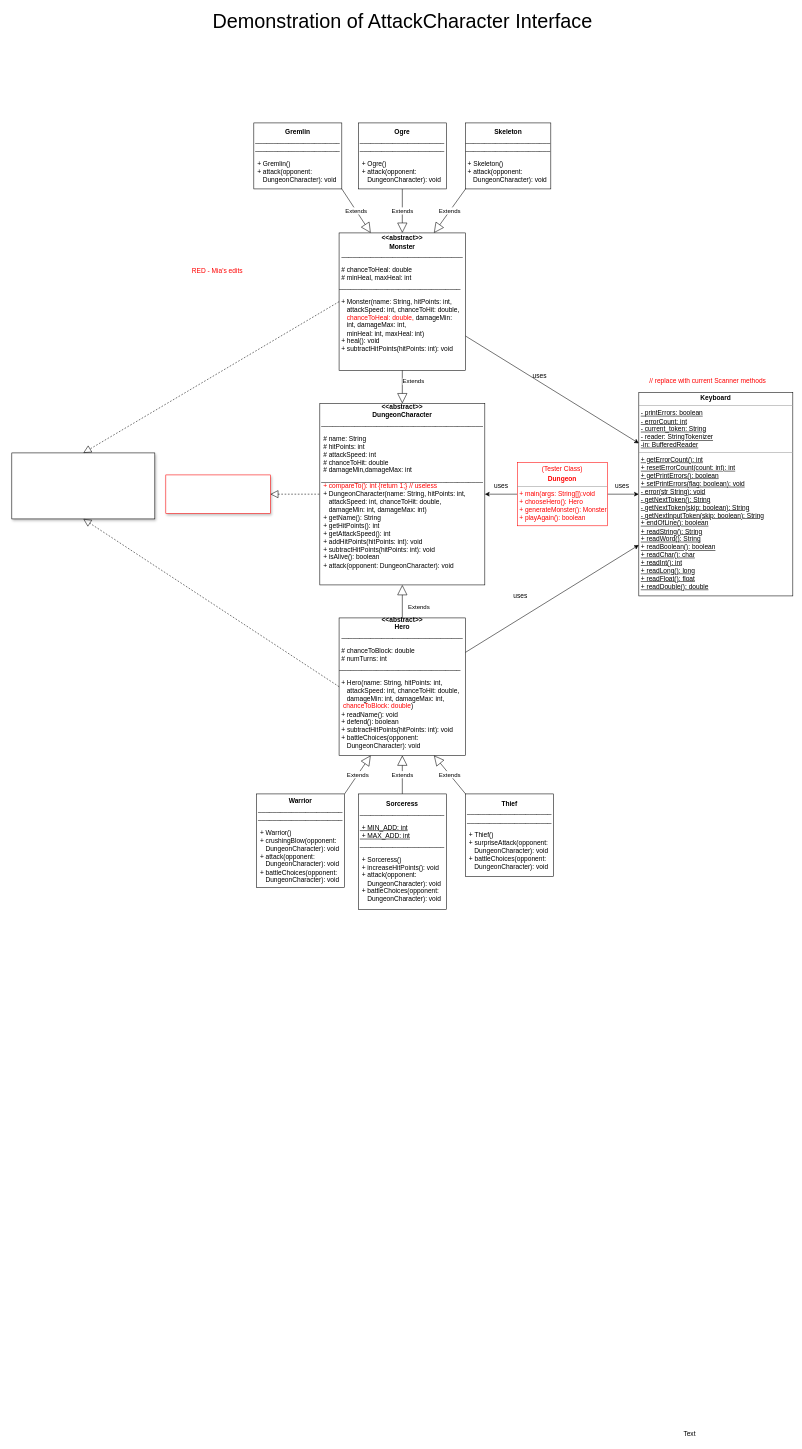
This 802x1449 diagram has some shape labels left out. The centre of each missing label's shape, as x and y in pixels:
"<<Interface>> Comparable" belongs at (x=218, y=494).
"<<Interface>> IAttackCharacter + attack(opponent: DungeonCharacter): void" belongs at (x=83, y=486).
